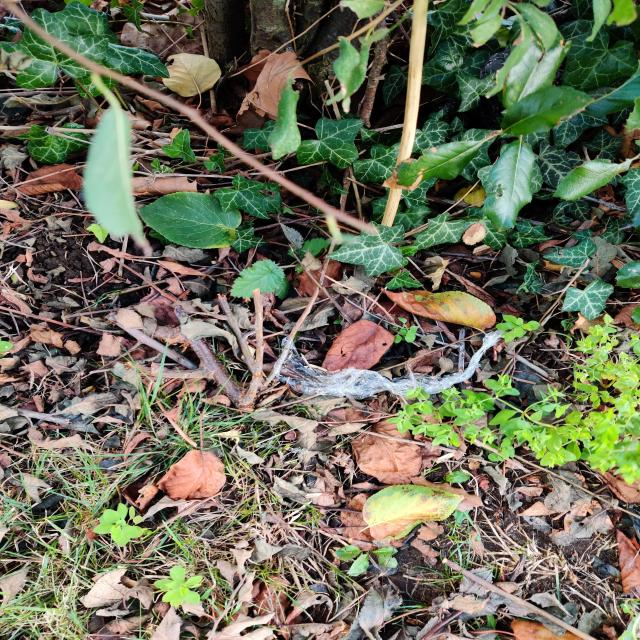litter: (271, 327, 509, 400)
